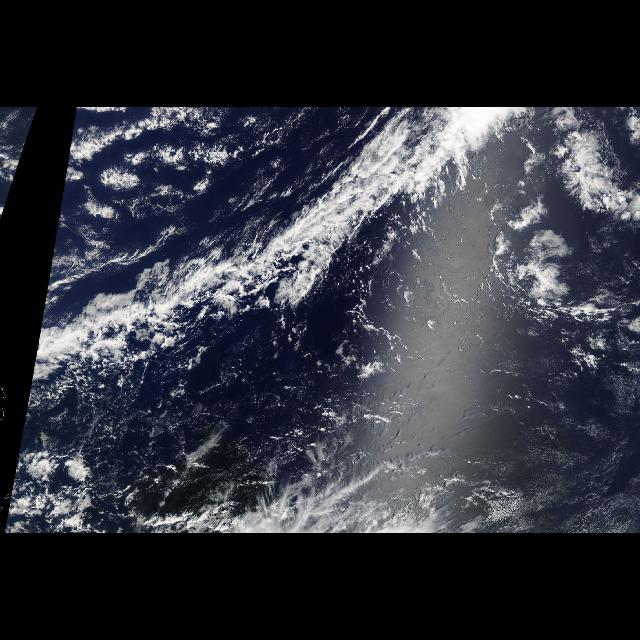Fish: (29, 114, 511, 430)
